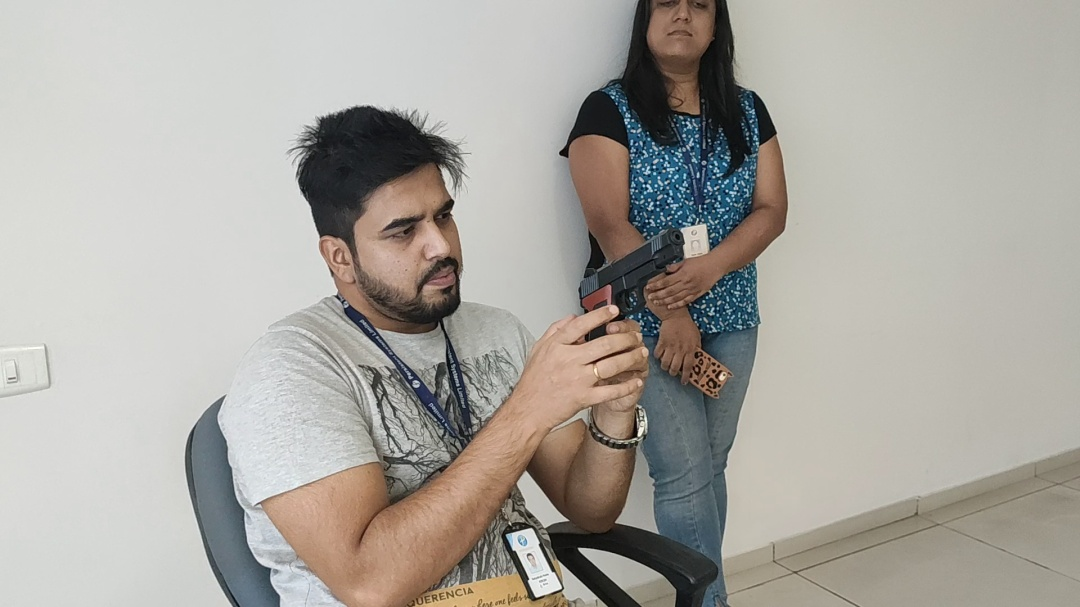gun: (578, 228, 686, 320)
